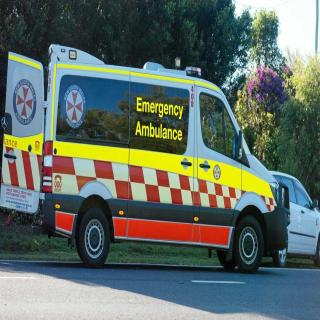Ambulance: (1, 18, 293, 298)
